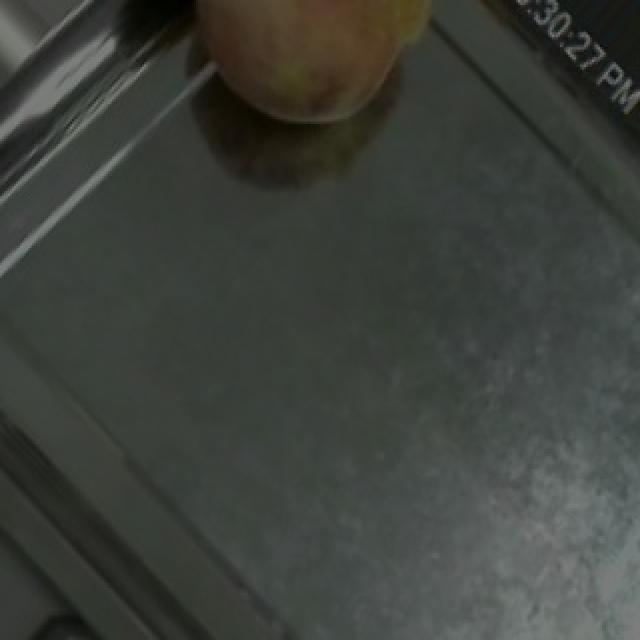Fruit: (170, 0, 476, 159)
